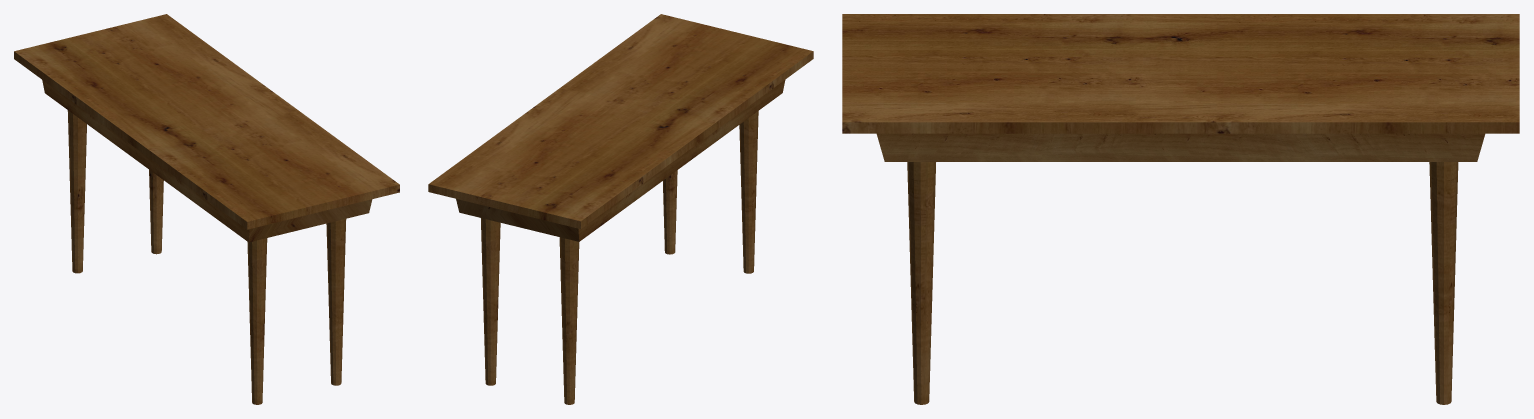
Rendered from table_surfaced.fbx.
3 views of the same model, side by side, from view 1: azimuth 30°, elevation 25°; view 2: azimuth 150°, elevation 25°; view 3: azimuth 270°, elevation 25° (orthographic). The views are drawn at different scales.
Parts seen in each view (by area): view 1: pCube1, pCylinder1, pCylinder2, pCylinder3, pCylinder4; view 2: pCube1, pCylinder4, pCylinder3, pCylinder1, pCylinder2; view 3: pCube1, pCylinder4, pCylinder2.
Part boxes in pixels (<box>): pCube1: <box>14,14,399,242</box>; pCylinder1: <box>247,238,267,404</box>; pCylinder2: <box>326,219,346,385</box>; pCylinder3: <box>67,110,86,273</box>; pCylinder4: <box>149,170,163,254</box>; pCube1: <box>428,14,813,241</box>; pCylinder4: <box>481,218,500,385</box>; pCylinder3: <box>559,237,579,404</box>; pCylinder1: <box>739,111,758,273</box>; pCylinder2: <box>663,170,677,254</box>; pCube1: <box>842,14,1519,161</box>; pCylinder4: <box>1429,162,1458,404</box>; pCylinder2: <box>907,162,935,404</box>.
Bounding box in the file's own units: 85.78 × 113 × 227.
Materials: 1 (1 with a texture image).
